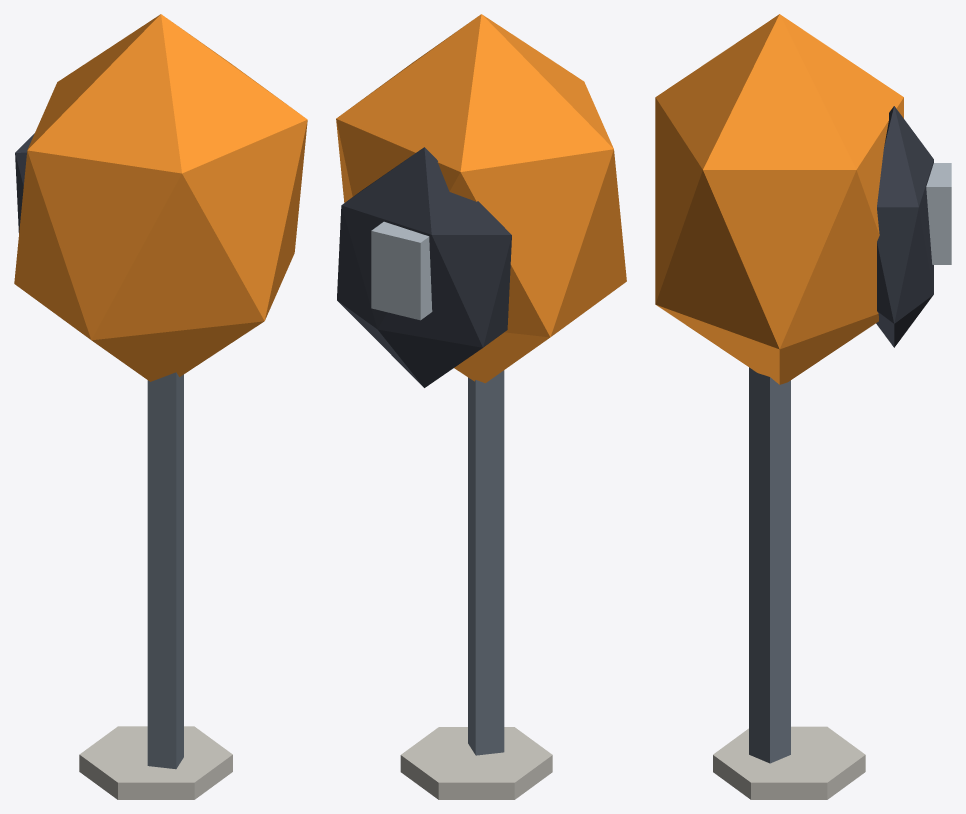
The model's file is orelhao.glb.
3 renders of one model, left to right at view 1: azimuth 30°, elevation 25°; view 2: azimuth 150°, elevation 25°; view 3: azimuth 270°, elevation 25°, orthographic.
Parts seen in each view (by area): view 1: corpo; view 2: corpo; view 3: corpo.
Part boxes in pixels (bbox=[...]): corpo: bbox=[14, 14, 307, 799]; corpo: bbox=[336, 14, 626, 799]; corpo: bbox=[655, 14, 951, 799].
Size of the model in its own units: 0.322 by 0.876 by 0.3101.
